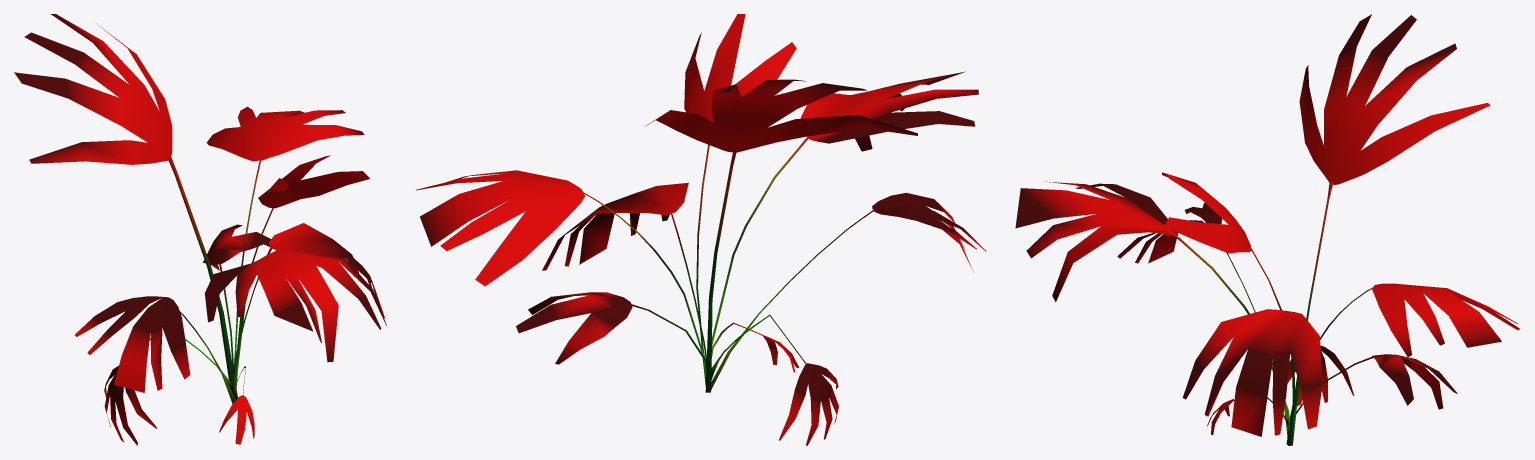
The model's file is Var1_LOD1.fbx.
3 views of the same model, side by side, from view 1: azimuth 30°, elevation 25°; view 2: azimuth 150°, elevation 25°; view 3: azimuth 270°, elevation 25° (orthographic). The views are drawn at different scales.
Visible parts, largest first — view 1: _0537_Var1_LOD1; view 2: _0537_Var1_LOD1; view 3: _0537_Var1_LOD1.
Part boxes in pixels (<box>): _0537_Var1_LOD1: <box>14,14,386,445</box>; _0537_Var1_LOD1: <box>416,14,986,445</box>; _0537_Var1_LOD1: <box>1015,14,1519,445</box>.
Bounding box in the file's own units: 109 × 100 × 124.
